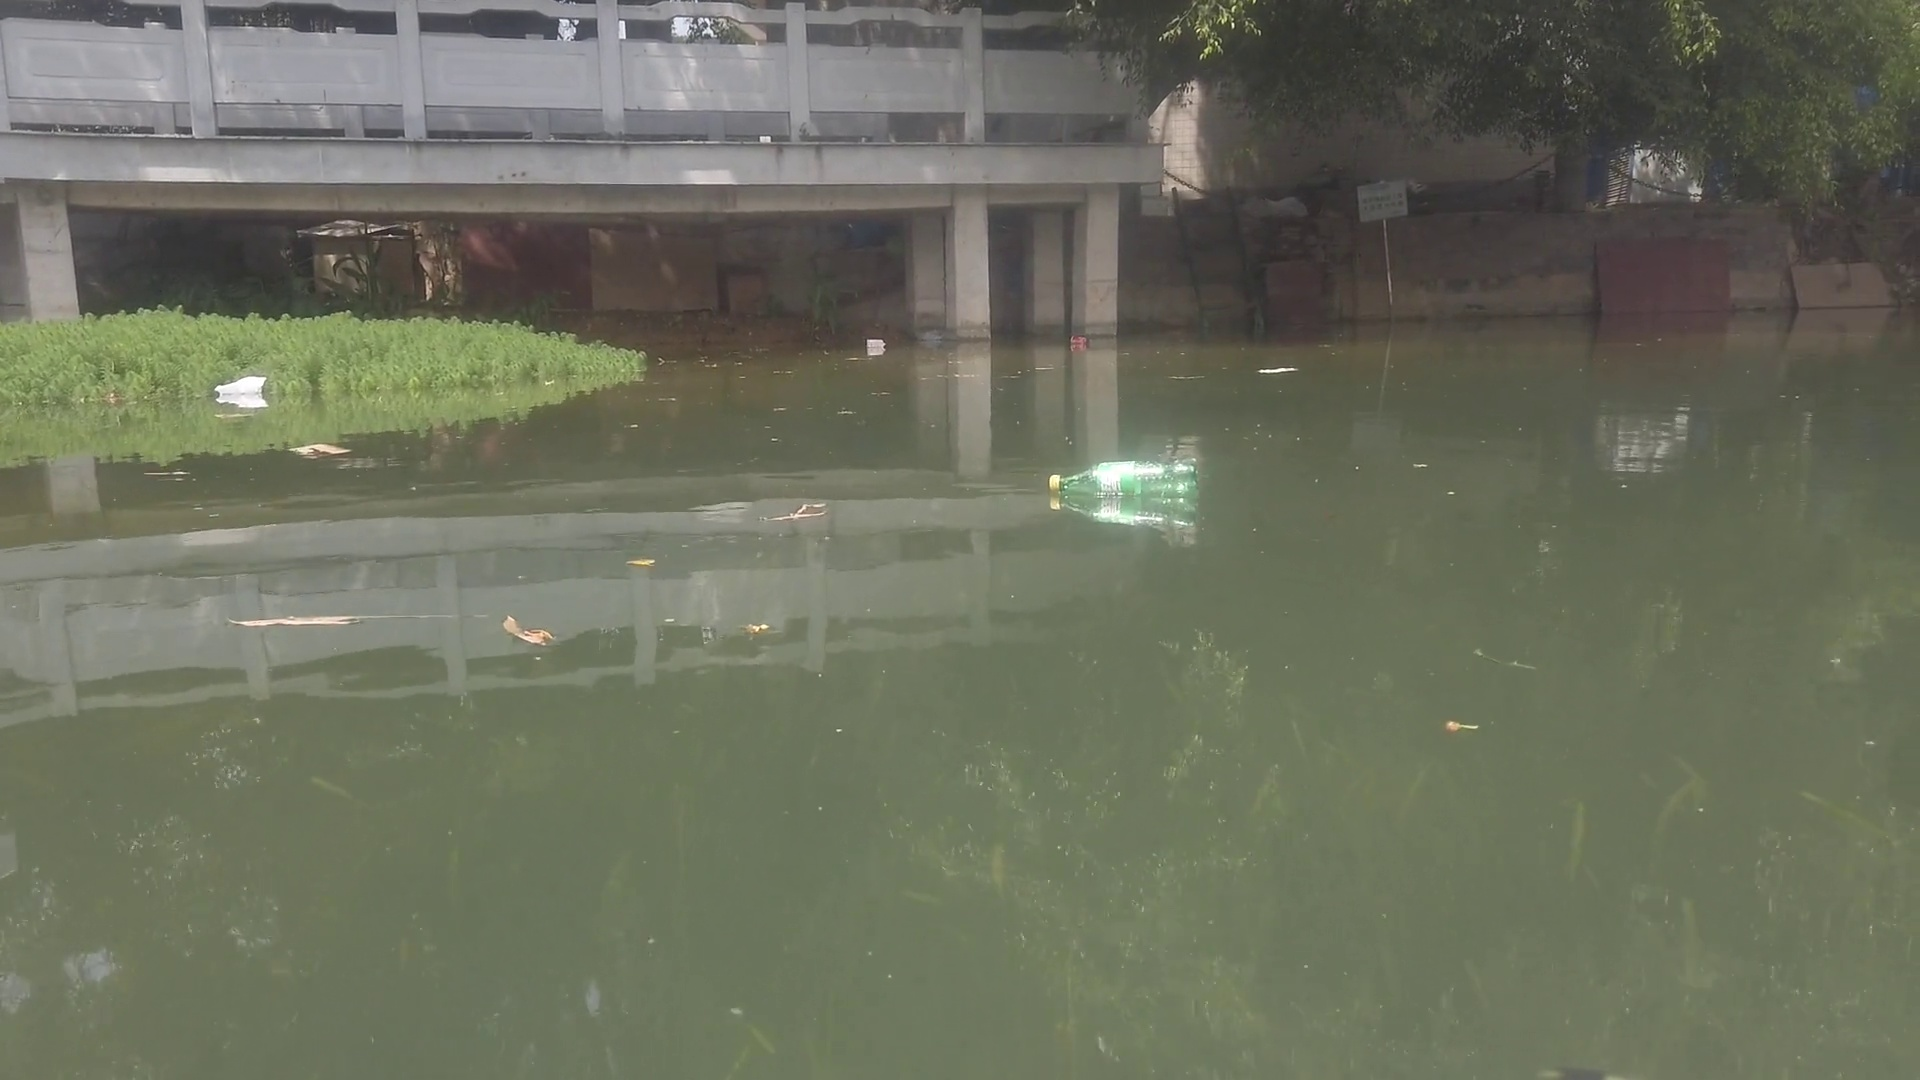bottle: (1047, 451, 1205, 492), (1067, 332, 1091, 351)
carton: (865, 335, 890, 349)
paper: (1254, 357, 1303, 380)
plastic: (212, 375, 266, 396)
